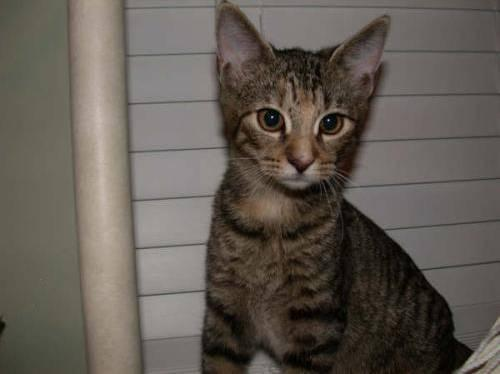cat: (202, 0, 471, 373)
